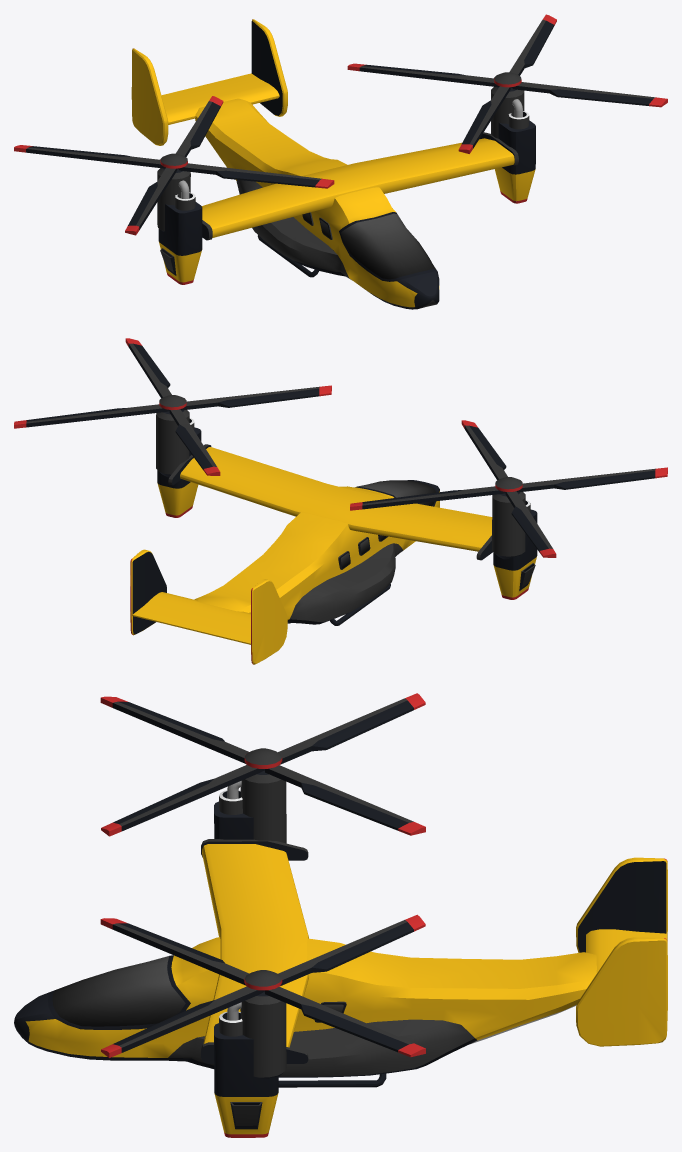
Rendered from Air_Plane_1.fbx.
3 views of the same model, one above another, from view 1: azimuth 30°, elevation 25°; view 2: azimuth 150°, elevation 25°; view 3: azimuth 270°, elevation 25° (orthographic). The views are drawn at different scales.
Visible parts, largest first — view 1: Air_Plane_1, Air_Plane_1_Wings, Air_Plane_1_Wings.001; view 2: Air_Plane_1, Air_Plane_1_Wings, Air_Plane_1_Wings.001; view 3: Air_Plane_1, Air_Plane_1_Wings.001, Air_Plane_1_Wings.
Boxes of the visible parts, x1=… form: Air_Plane_1: x1=131, y1=19, x2=535, y2=309; Air_Plane_1_Wings: x1=347, y1=14, x2=667, y2=153; Air_Plane_1_Wings.001: x1=14, y1=96, x2=334, y2=235; Air_Plane_1: x1=130, y1=410, x2=537, y2=664; Air_Plane_1_Wings: x1=14, y1=338, x2=331, y2=475; Air_Plane_1_Wings.001: x1=350, y1=420, x2=667, y2=557; Air_Plane_1: x1=14, y1=769, x2=667, y2=1137; Air_Plane_1_Wings.001: x1=100, y1=693, x2=425, y2=836; Air_Plane_1_Wings: x1=100, y1=914, x2=425, y2=1057.
Size of the model in its own units: 19.24 by 4.99 by 14.81.
